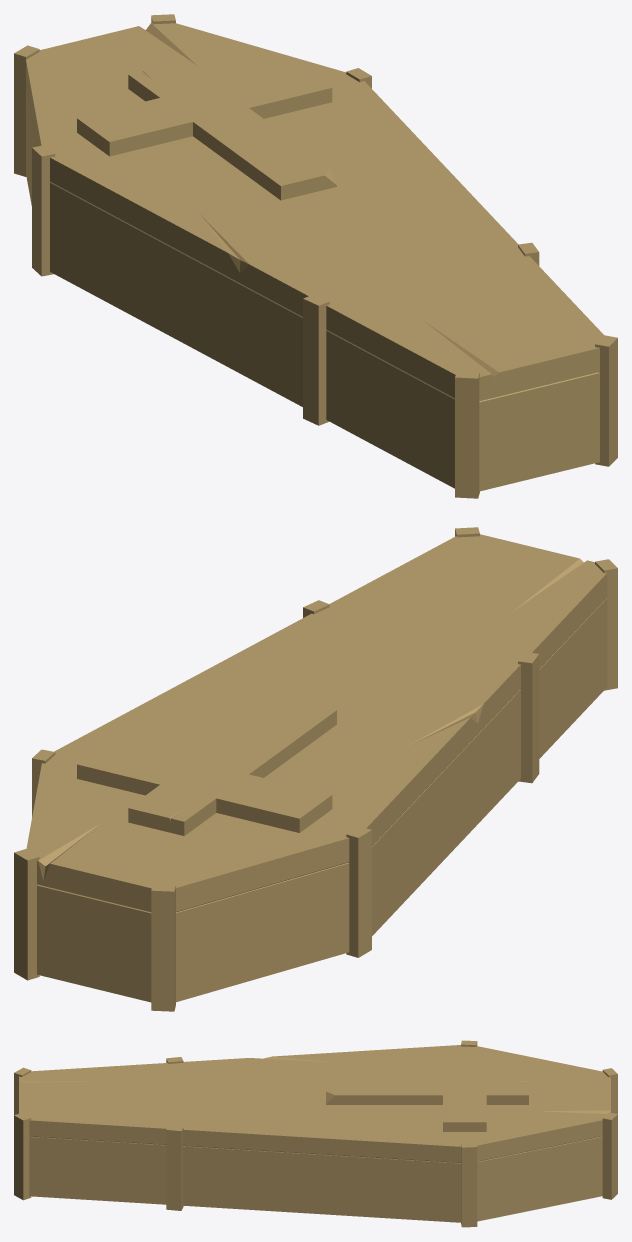
The model's file is coffin_wood.fbx.
The picture shows the model from 3 angles, top to bottom: view 1: azimuth 30°, elevation 25°; view 2: azimuth 150°, elevation 25°; view 3: azimuth 270°, elevation 25°; orthographic projection. The views are drawn at different scales.
Parts seen in each view (by area): view 1: coffin_wood; view 2: coffin_wood; view 3: coffin_wood.
Part boxes in pixels (<box>): coffin_wood: <box>14,14,617,498</box>; coffin_wood: <box>14,527,617,1011</box>; coffin_wood: <box>14,1040,617,1227</box>.
Bounding box in the file's own units: 0.9815 × 0.3741 × 2.34.
